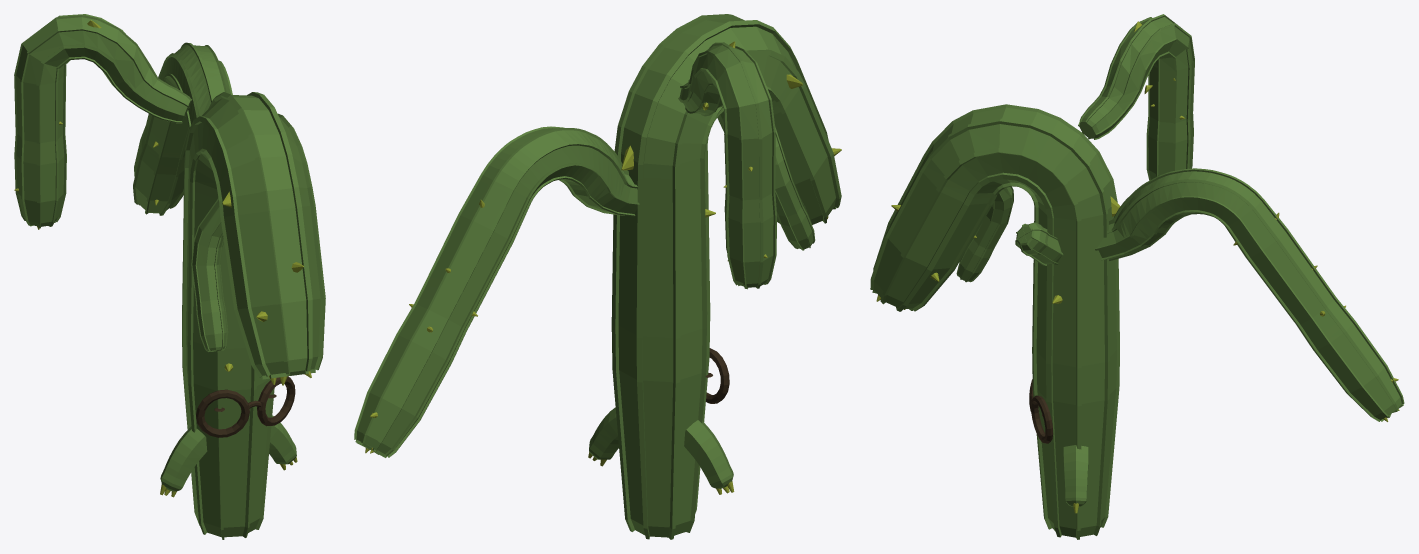
The model's file is NPCcactus.fbx.
3 views of the same model, side by side, from view 1: azimuth 30°, elevation 25°; view 2: azimuth 150°, elevation 25°; view 3: azimuth 270°, elevation 25° (orthographic). The views are drawn at different scales.
Visible parts, largest first — view 1: body_main, body2, body3, glass, hand2, hand1; view 2: body_main, body3, body2, hand2, hand1, glass; view 3: body_main, body3, body2, hand1, body1, glass.
Part boxes in pixels (left/top/right/bottom): body_main: left=182, top=92, right=325, bottom=539; body2: left=14, top=14, right=191, bottom=229; body3: left=133, top=42, right=232, bottom=215; glass: left=196, top=376, right=295, bottom=437; hand2: left=160, top=426, right=207, bottom=497; hand1: left=269, top=415, right=297, bottom=470; body_main: left=611, top=14, right=841, bottom=539; body3: left=354, top=126, right=639, bottom=457; body2: left=678, top=41, right=776, bottom=289; hand2: left=684, top=420, right=734, bottom=494; hand1: left=588, top=407, right=618, bottom=466; glass: left=706, top=348, right=729, bottom=403; body_main: left=870, top=104, right=1120, bottom=539; body3: left=1095, top=168, right=1404, bottom=421; body2: left=1078, top=14, right=1194, bottom=180; hand1: left=1063, top=445, right=1088, bottom=513; body1: left=1015, top=222, right=1063, bottom=265; glass: left=1029, top=379, right=1053, bottom=443.
Bounding box in the file's own units: 172 × 303 × 317.
